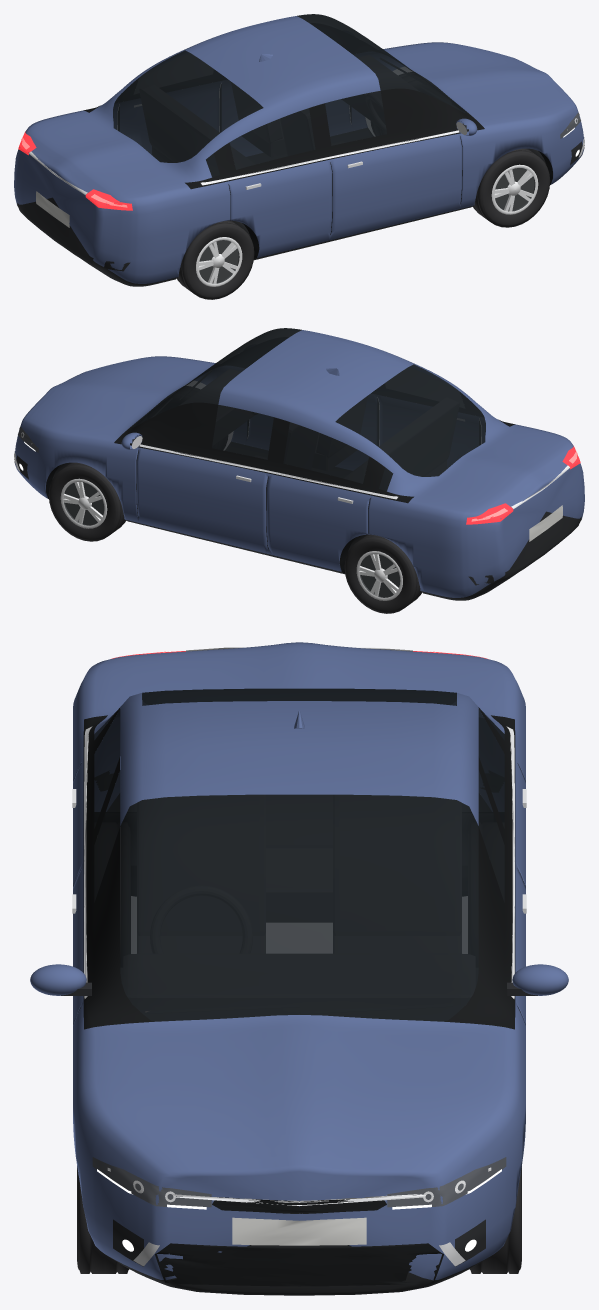
The model's file is vw-virtus-model-low.glb.
3 views of the same model, one above another, from view 1: azimuth 30°, elevation 25°; view 2: azimuth 150°, elevation 25°; view 3: azimuth 270°, elevation 25° (orthographic). The views are drawn at different scales.
Parts seen in each view (by area): view 1: Body, Wheel.004, Wheel.002, SeatBack.002, Dashboard, SeatBack.001, SeatBack, RearBumper, WindowChrome.001, TailLamp, SeatBase, Wheel.001 (+2 smaller); view 2: Body, Wheel.003, Wheel.001, SeatBack.002, Dashboard, SeatBack, SeatBack.001, WindowChrome, RearBumper, TailLamp, Wheel.002, SeatBase.001 (+1 smaller); view 3: Body, Dashboard, SeatBack, SeatBack.001, Intake, SeatBase.002, PlateFront, SeatBack.002, Headlamp, Wheel.004, Wheel.003, SeatBase (+12 smaller).
Part boxes in pixels (x1,y1,x2,y2): Body: (14,14,583,286); Wheel.004: (177,220,254,299); Wheel.002: (473,148,550,227); SeatBack.002: (140,84,219,176); Dashboard: (342,56,417,126); SeatBack.001: (281,109,314,155); SeatBack: (231,82,281,143); RearBumper: (17,203,130,271); WindowChrome.001: (201,130,459,185); TailLamp: (18,131,132,210); SeatBase: (242,119,286,156); Wheel.001: (371,72,451,135); Body: (15,328,584,600); Wheel.003: (344,534,421,613); Wheel.001: (48,462,125,541); SeatBack.002: (379,398,458,490); Dashboard: (181,370,252,444); SeatBack: (284,423,317,469); SeatBack.001: (317,396,367,457); WindowChrome: (139,444,397,499); RearBumper: (468,516,581,585); TailLamp: (466,446,580,524); Wheel.002: (147,386,227,449); SeatBase.001: (312,433,356,470); Body: (73,642,525,1295); Dashboard: (124,954,474,1021); SeatBack: (333,795,461,935); SeatBack.001: (137,795,265,935); Intake: (155,1243,443,1286); SeatBase.002: (266,849,332,921); PlateFront: (232,1217,366,1245); SeatBack.002: (266,795,332,847); Headlamp: (92,1157,506,1207); Wheel.004: (95,823,130,966); Wheel.003: (468,823,520,966); SeatBase: (333,933,461,952).
Size of the model in its own units: 4.5 by 1.55 by 2.09.
